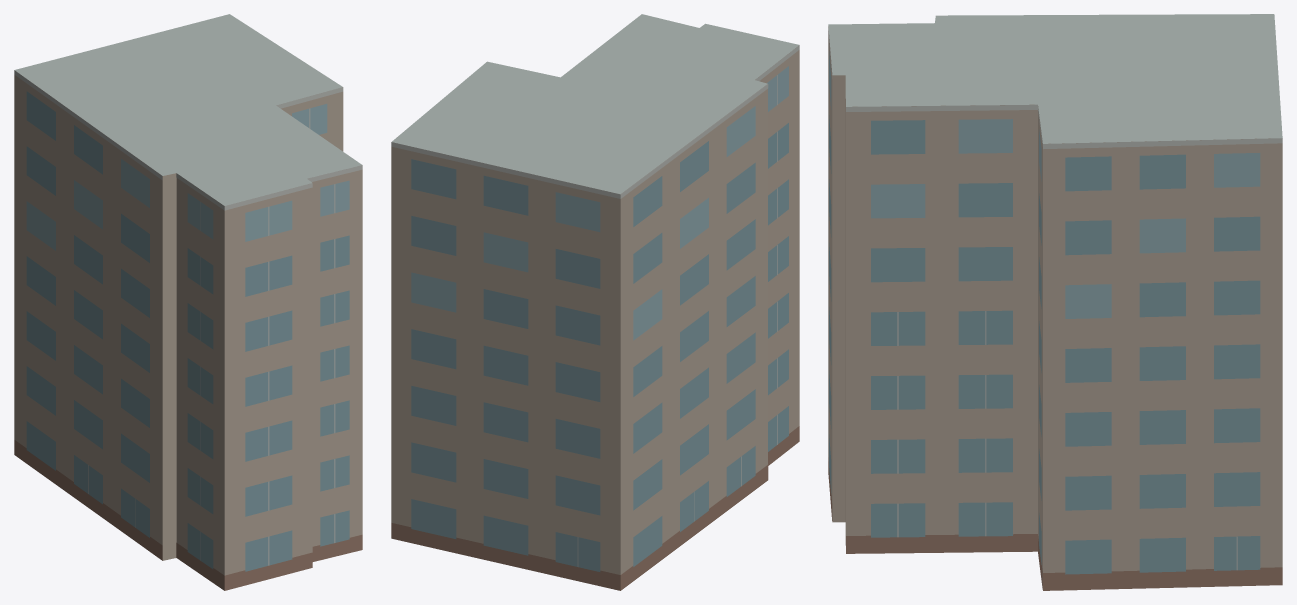
File: survey-upis-32743491.glb
3 renders of one model, left to right at view 1: azimuth 30°, elevation 25°; view 2: azimuth 150°, elevation 25°; view 3: azimuth 270°, elevation 25°, orthographic. The views are drawn at different scales.
Visible parts, largest first — view 1: survey-upis-32743491.tmp; view 2: survey-upis-32743491.tmp; view 3: survey-upis-32743491.tmp.
Part boxes in pixels (x1,y1,x2,y2): survey-upis-32743491.tmp: (14, 14, 362, 590); survey-upis-32743491.tmp: (391, 14, 799, 590); survey-upis-32743491.tmp: (828, 14, 1282, 590).
Bounding box in the file's own units: 12.98 × 20.8 × 19.17.
